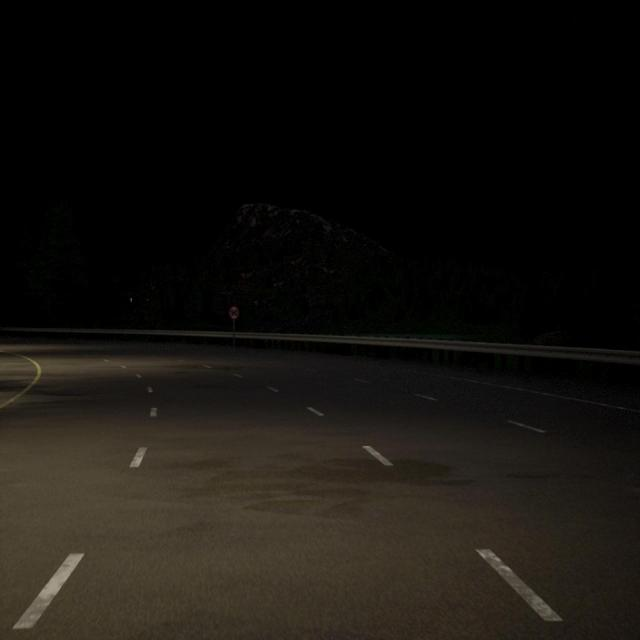Traffic_Signs: (229, 306, 239, 320)
